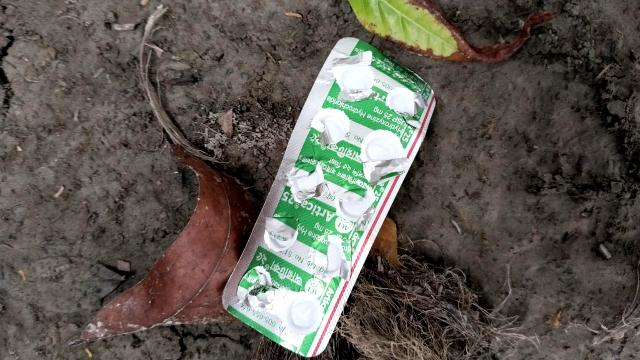medicine: (206, 31, 449, 356)
